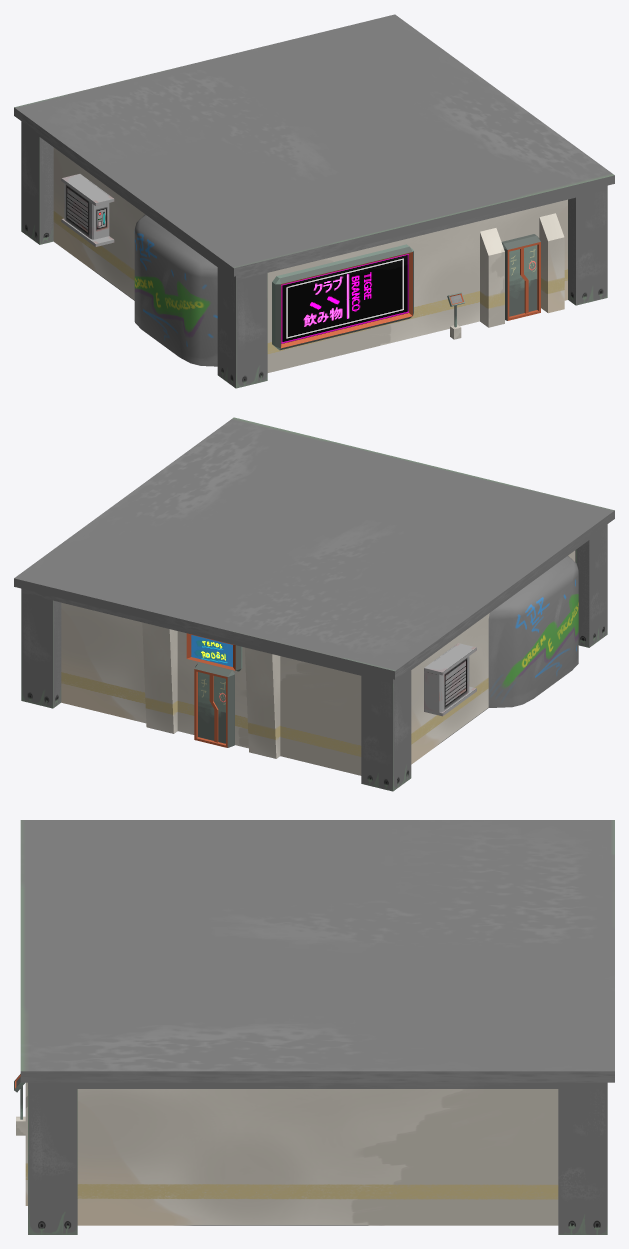
File: Módulo_Prédio_1_Primeiro_Andar.1.fbx
The picture shows the model from 3 angles, top to bottom: view 1: azimuth 30°, elevation 25°; view 2: azimuth 150°, elevation 25°; view 3: azimuth 270°, elevation 25°; orthographic projection. The views are drawn at different scales.
Visible parts, largest first — view 1: Módulo_Prédio_1_Primeiro_Andar.1; view 2: Módulo_Prédio_1_Primeiro_Andar.1; view 3: Módulo_Prédio_1_Primeiro_Andar.1.
Boxes of the visible parts, x1,y1,x2,y2 form: Módulo_Prédio_1_Primeiro_Andar.1: (14, 14, 614, 388); Módulo_Prédio_1_Primeiro_Andar.1: (14, 417, 614, 791); Módulo_Prédio_1_Primeiro_Andar.1: (14, 820, 614, 1234).
Bounding box in the file's own units: 1124 × 343 × 1120.
